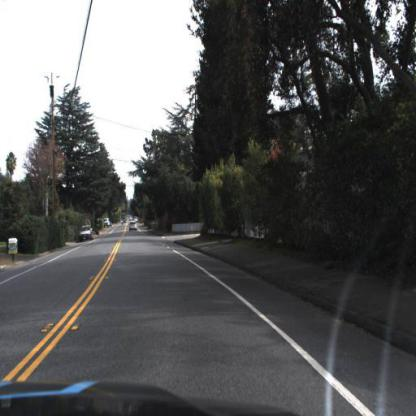car: (80, 224, 94, 242), (128, 219, 140, 235)
